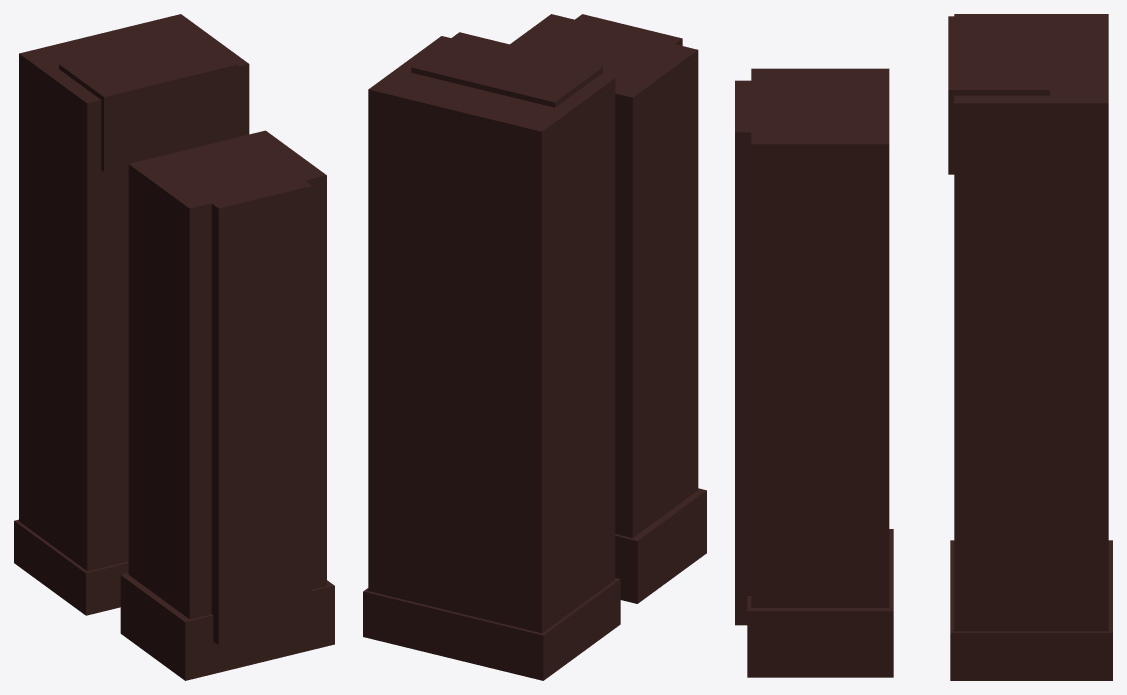
The model's file is ak_handguard_wood.glb.
3 views of the same model, side by side, from view 1: azimuth 30°, elevation 25°; view 2: azimuth 150°, elevation 25°; view 3: azimuth 270°, elevation 25° (orthographic). The views are drawn at different scales.
Parts seen in each view (by area): view 1: hg_lower, hg_upper, hg_upper_crown, hg_lower_nose, hg_upper_heel, hg_lower_cap; view 2: hg_lower, hg_upper, hg_lower_cap, hg_lower_nose, hg_upper_heel, hg_upper_crown; view 3: hg_lower, hg_upper, hg_upper_heel, hg_upper_crown, hg_lower_cap, hg_lower_nose.
Part boxes in pixels (<box>): hg_lower: <box>19,14,249,571</box>; hg_upper: <box>128,130,326,619</box>; hg_upper_crown: <box>200,179,312,645</box>; hg_lower_nose: <box>59,31,237,171</box>; hg_upper_heel: <box>120,573,334,680</box>; hg_lower_cap: <box>14,519,128,615</box>; hg_lower: <box>368,36,615,633</box>; hg_upper: <box>510,14,698,537</box>; hg_lower_cap: <box>363,578,620,680</box>; hg_lower_nose: <box>411,32,602,107</box>; hg_upper_heel: <box>615,488,706,603</box>; hg_upper_crown: <box>561,14,682,53</box>; hg_lower: <box>954,14,1108,631</box>; hg_upper: <box>751,68,889,607</box>; hg_upper_heel: <box>747,529,893,677</box>; hg_upper_crown: <box>735,80,779,625</box>; hg_lower_cap: <box>950,540,1112,680</box>; hg_lower_nose: <box>948,16,1049,174</box>.
Bounding box in the file's own units: 0.054 × 0.1585 × 0.093.
